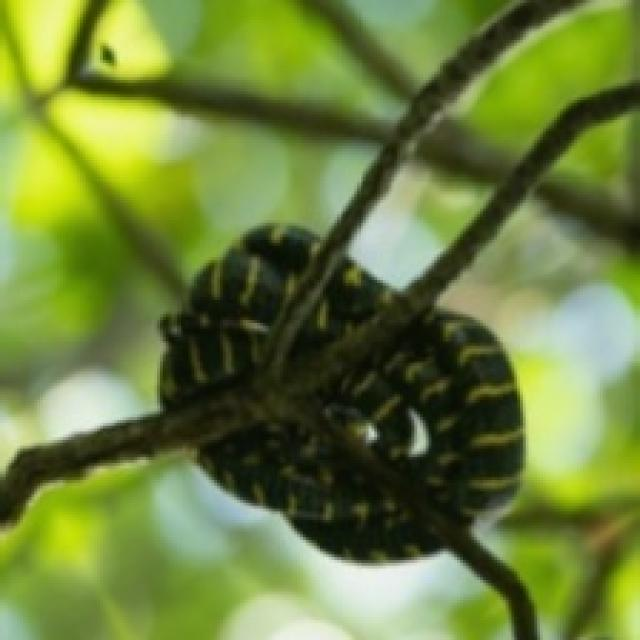mangrove cat snake: (323, 309, 523, 523), (197, 420, 437, 557), (160, 226, 314, 406), (291, 257, 394, 363)
